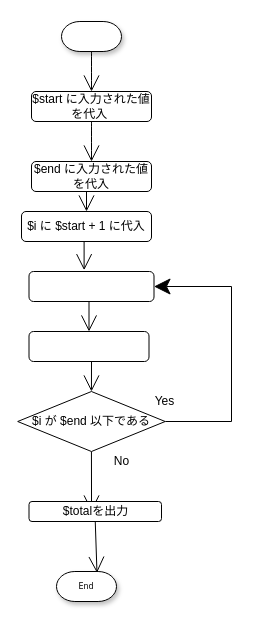
This 265x626 diagram has some shape labels left out. Here are the shapes that lost their labels. From the top down, the centre of each, then its label:
(x=92, y=37): start
(x=91, y=286): $total に $i の値を足す
(x=88, y=346): $iをインクリメント
